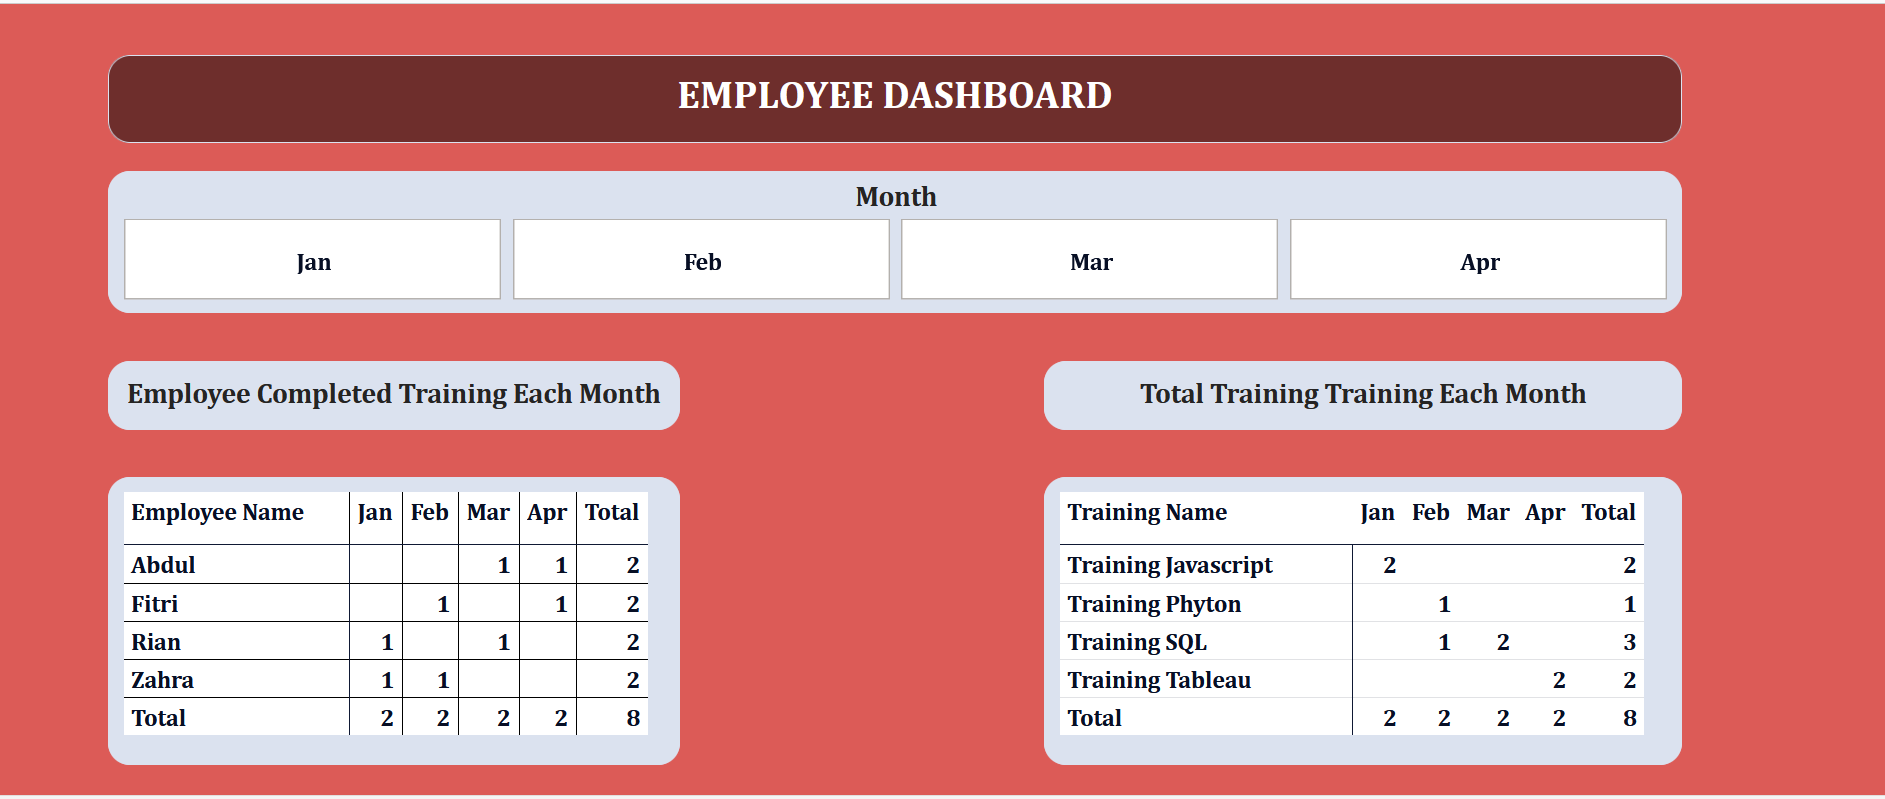

This screenshot's page, from the dashboard's own definition file:
{"tool":"powerbi","page":{"name":"Employee Dashboard","canvas":[1280,720],"ordinal":0},"visuals":[{"type":"pivotTable","fields":{"Rows":["TrainingHistory.TraTitle"],"Columns":["TrainingHistory.TraMonth"],"Values":["TrainingHistory.TraId"]},"box":[708.9,320.8,433.4,195.6],"z":1},{"type":"pivotTable","fields":{"Columns":["TrainingHistory.TraMonth"],"Values":["TrainingHistory.TraId"],"Rows":["Employee_sample.FullName"]},"box":[73.5,320.8,388.1,195.6],"z":2},{"type":"textbox","box":[73.5,242.5,388.1,46.9],"z":3},{"type":"textbox","box":[708.9,242.5,433.4,46.9],"z":4},{"type":"textbox","box":[73.5,34.4,1068.8,59.5],"z":5},{"type":"advancedSlicerVisual","title":"Month","fields":{"Values":["TrainingHistory.TraMonth"]},"box":[73.5,112.7,1068.8,97],"z":6}]}

Visuals, with their boxes on the page's 1280x720 design canvas (x1, y1, x2, y2). These are canvas units, not pixel positions in the 1885x799 screenshot, which may show the page scaled, cropped or inside an application window:
pivotTable - TrainingHistory.TraTitle x TrainingHistory.TraMonth: <bbox>709, 321, 1142, 516</bbox>
pivotTable - TrainingHistory.TraMonth x TrainingHistory.TraId: <bbox>74, 321, 462, 516</bbox>
textbox: <bbox>74, 242, 462, 289</bbox>
textbox: <bbox>709, 242, 1142, 289</bbox>
textbox: <bbox>74, 34, 1142, 94</bbox>
"Month" advancedSlicerVisual: <bbox>74, 113, 1142, 210</bbox>
